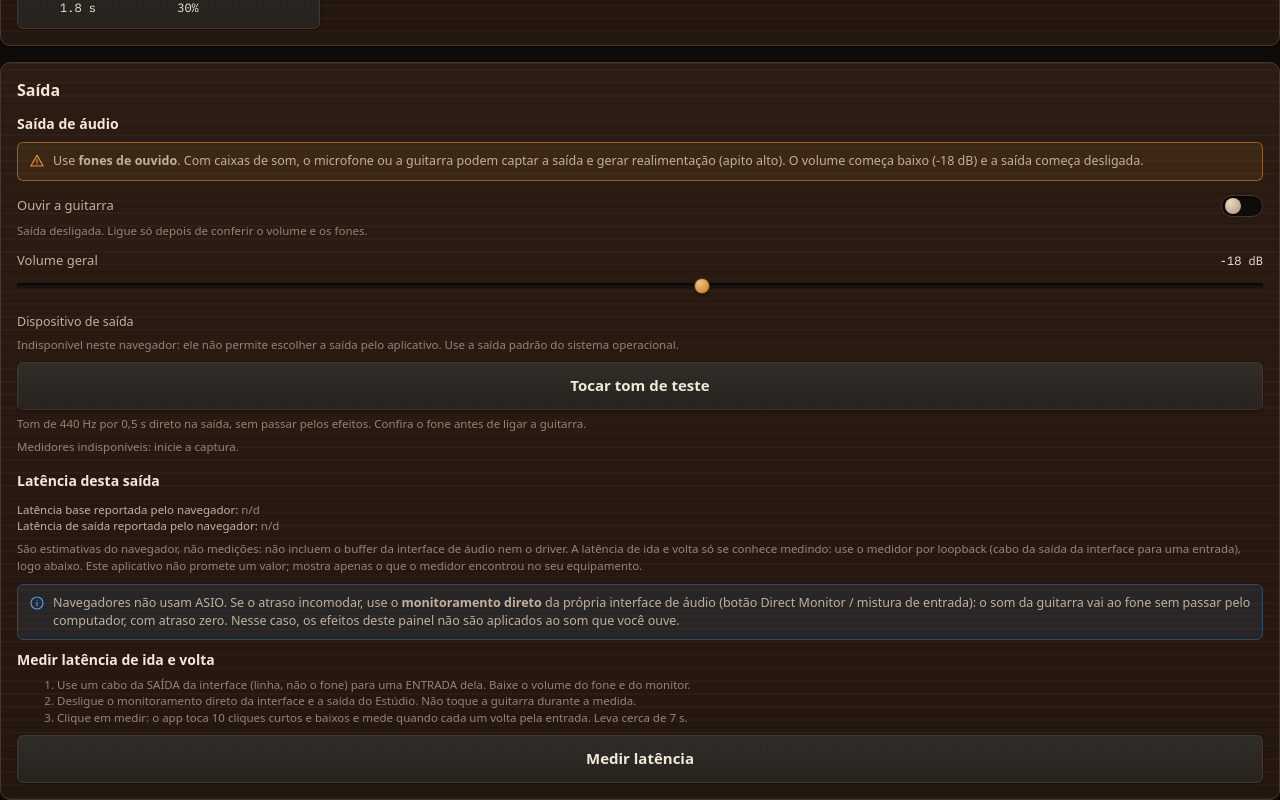
Test case: Medidor de latência por loopback (interface) › falha noisy: mensagem clara, nenhum número inventado
(page scrolled)
Click the button with test id "loopback-btn" at point(640, 759), box [17,735,1263,783]
(page scrolled)
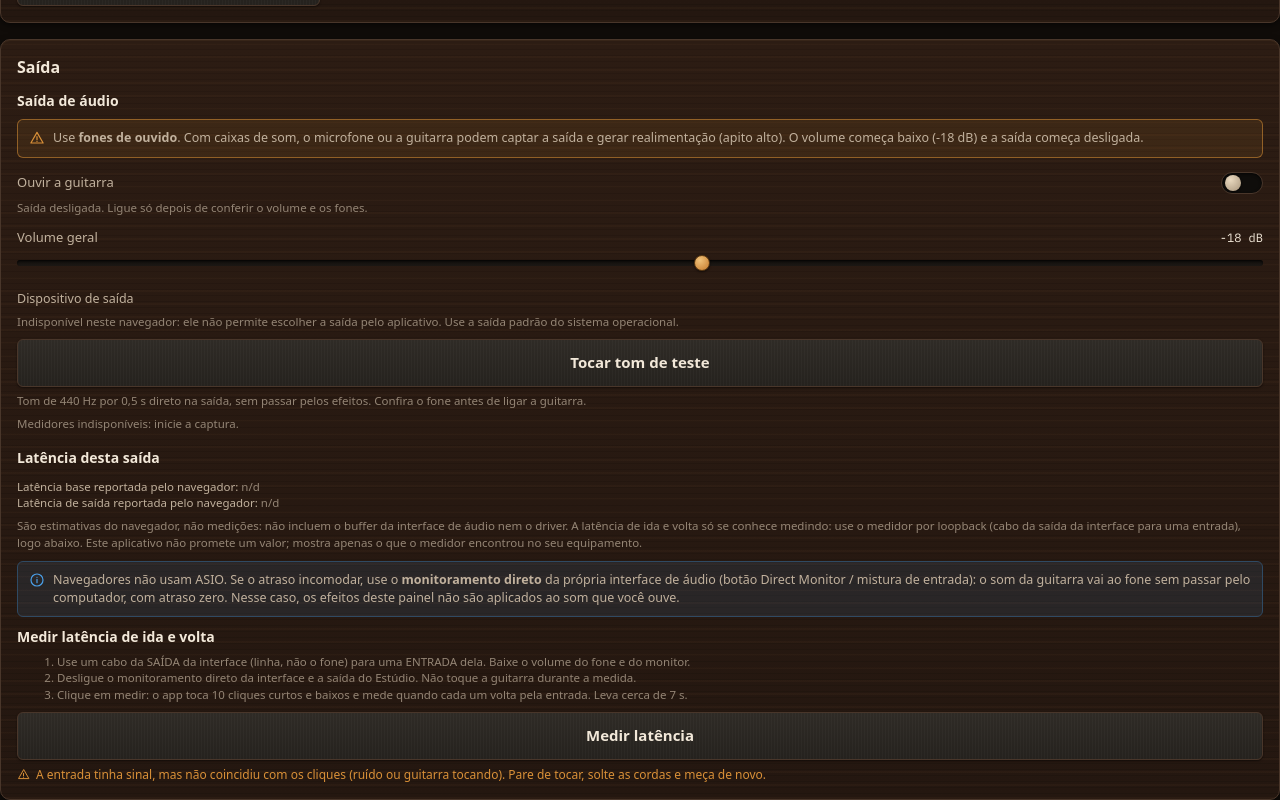
expect the message with test id "loopback-error" is shown: met, box [17,766,766,782]
expect the message with test id "loopback-error" shows "Pare de tocar": met, box [36,766,766,782]
